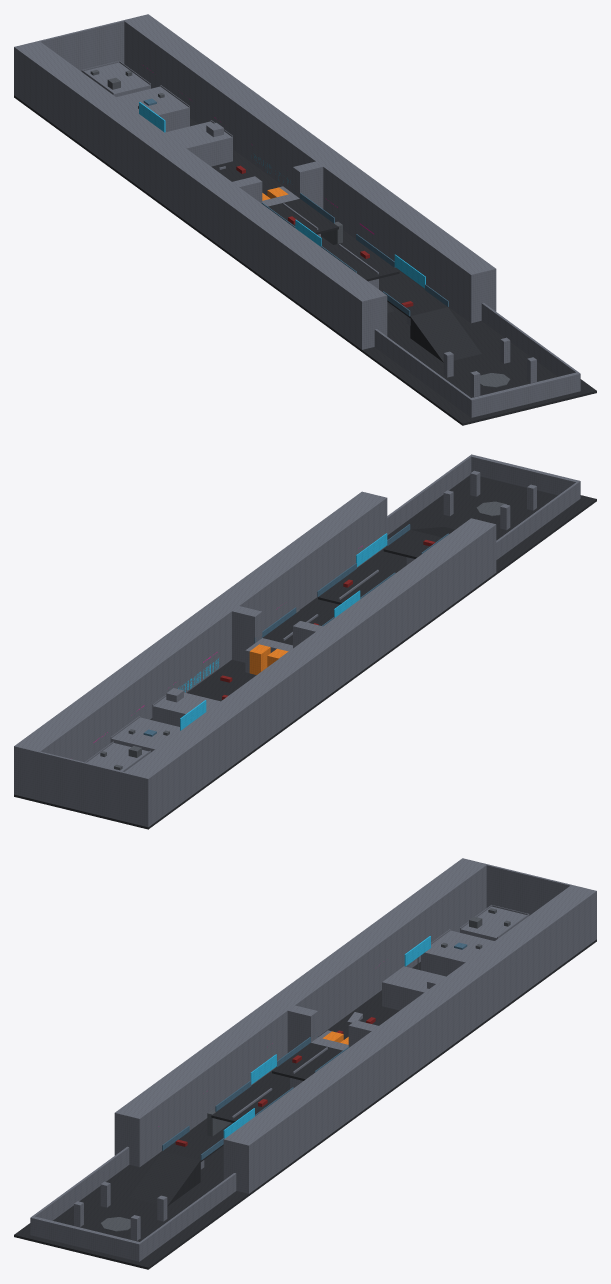
Rendered from DemoStage.fbx.
3 renders of one model, top to bottom at view 1: azimuth 30°, elevation 25°; view 2: azimuth 150°, elevation 25°; view 3: azimuth 330°, elevation 25°, orthographic.
Parts seen in each view (by area): view 1: Building_Right, Building_Left, Street, Building_Back, Highway_EndRamp, PlazaWall_Back, PlazaWall_R, PlazaWall_L, RoofA3, RoofA2, Deck_H1, Blocker_L (+3 smaller); view 2: Building_Right, Building_Left, Street, Building_Back, PlazaWall_Back, PlazaWall_L, PlazaWall_R, Blocker_L, RoofA2, Deck_H1, RoofA3, Deck_H2 (+3 smaller); view 3: Building_Left, Building_Right, Street, Building_Back, Highway_EndRamp, PlazaWall_Back, PlazaWall_L, RoofA2, PlazaWall_R, RoofA3, Deck_H0, Deck_H1 (+3 smaller).
Part boxes in pixels (<box>): Building_Right: <box>14,41,387,349</box>; Building_Left: <box>123,14,496,323</box>; Street: <box>14,95,596,425</box>; Building_Back: <box>39,20,124,71</box>; Highway_EndRamp: <box>410,307,481,362</box>; PlazaWall_Back: <box>469,372,578,417</box>; PlazaWall_R: <box>374,329,473,417</box>; PlazaWall_L: <box>481,302,580,391</box>; RoofA3: <box>165,121,232,166</box>; RoofA2: <box>116,86,189,131</box>; Deck_H1: <box>324,239,399,281</box>; Blocker_L: <box>293,161,323,208</box>; Building_Right: <box>123,518,496,827</box>; Building_Left: <box>14,491,387,800</box>; Street: <box>14,475,596,829</box>; Building_Back: <box>39,751,123,820</box>; PlazaWall_Back: <box>471,455,580,499</box>; PlazaWall_L: <box>387,454,472,535</box>; PlazaWall_R: <box>496,480,580,559</box>; Blocker_L: <box>232,606,262,662</box>; RoofA2: <box>110,717,180,752</box>; Deck_H1: <box>318,565,393,604</box>; RoofA3: <box>152,692,220,726</box>; Deck_H2: <box>383,529,441,558</box>; Building_Left: <box>223,885,596,1193</box>; Building_Right: <box>114,858,487,1167</box>; Street: <box>14,939,596,1269</box>; Building_Back: <box>486,864,571,915</box>; Highway_EndRamp: <box>129,1151,200,1206</box>; PlazaWall_Back: <box>30,1216,141,1261</box>; PlazaWall_L: <box>137,1173,236,1261</box>; RoofA2: <box>421,930,494,976</box>; PlazaWall_R: <box>30,1146,129,1235</box>; RoofA3: <box>382,966,445,1010</box>; Deck_H0: <box>272,1043,342,1080</box>; Deck_H1: <box>211,1083,286,1122</box>.
Bounding box in the file's own units: 6400 × 2300 × 37000.
8 materials, 8 textured.
